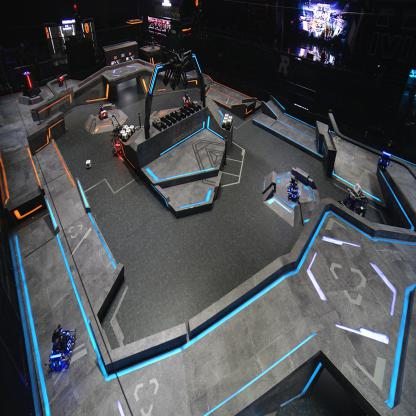car: (47, 324, 76, 370), (336, 186, 368, 224), (110, 122, 128, 157), (287, 177, 300, 201), (97, 102, 107, 119), (182, 89, 192, 106)
